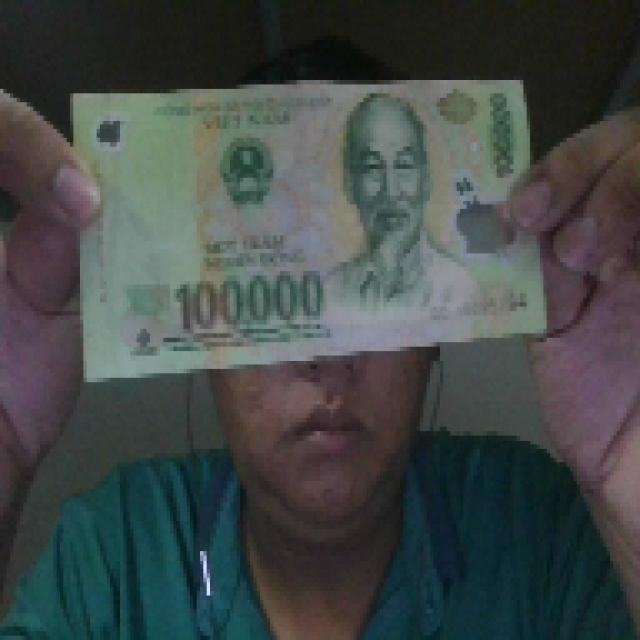100 000 VND: (67, 71, 550, 387)
